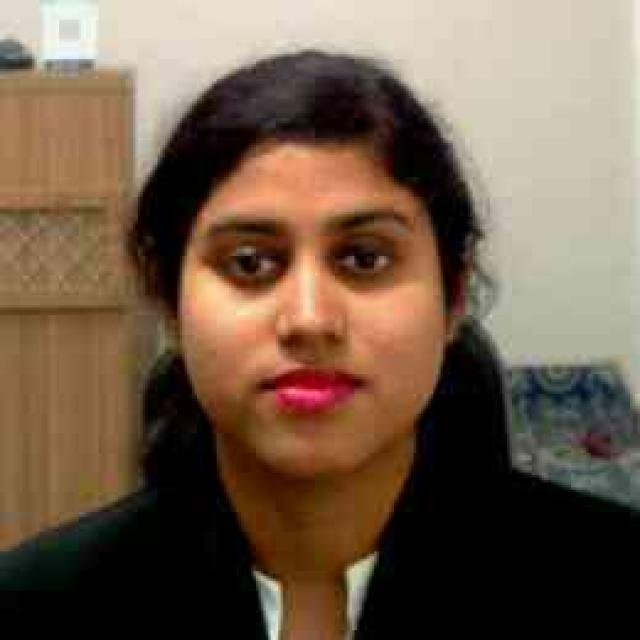puffy_eyes: (330, 264, 399, 292), (224, 274, 285, 293)
